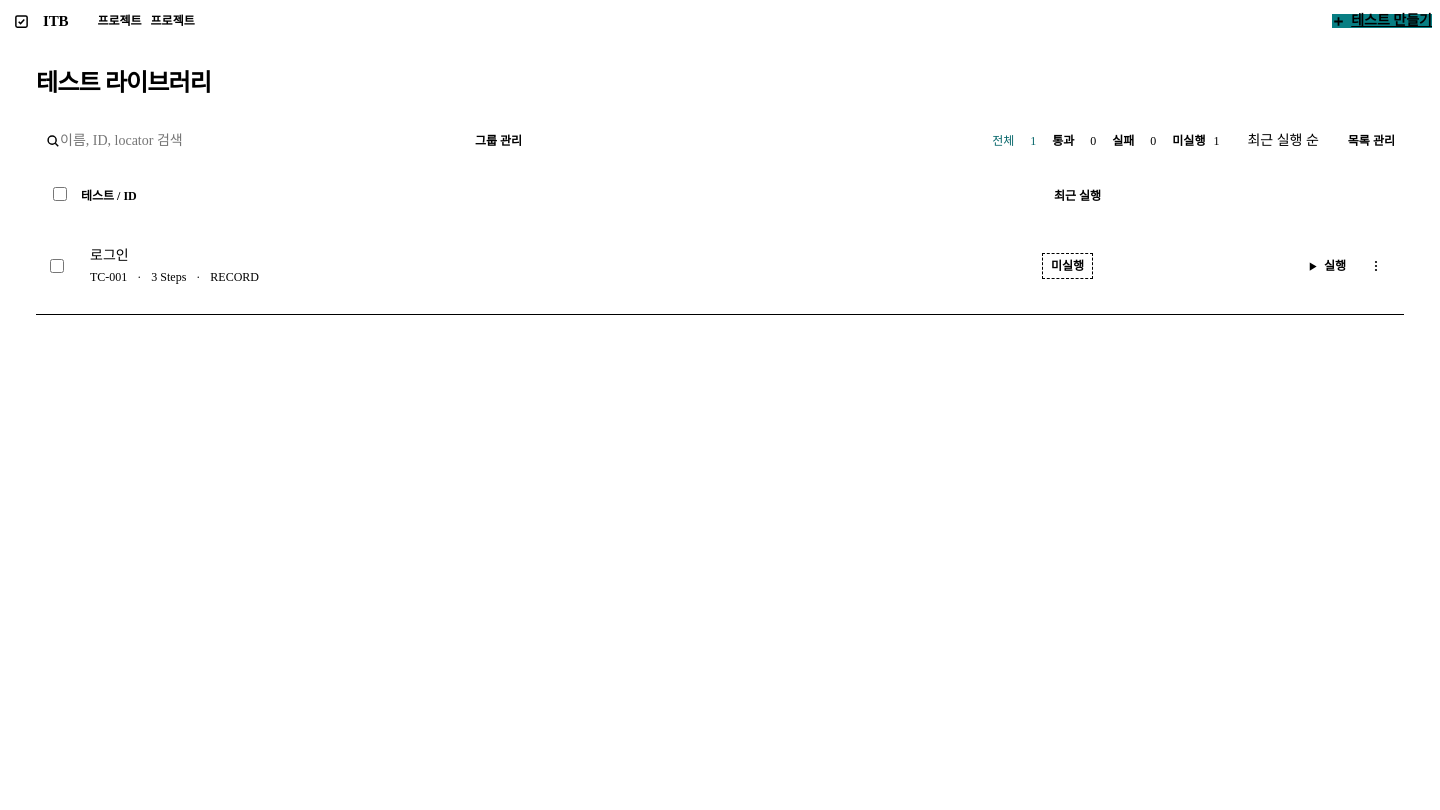
Test: 그룹이 없는 프로젝트 › 그래도 그룹을 만들 길은 있다
The image size is (1440, 810).
Check: the text "로그인" is shown, box [90,248,129,263]
Click the button "그룹 관리" at point(499, 141), box [466,134,531,148]
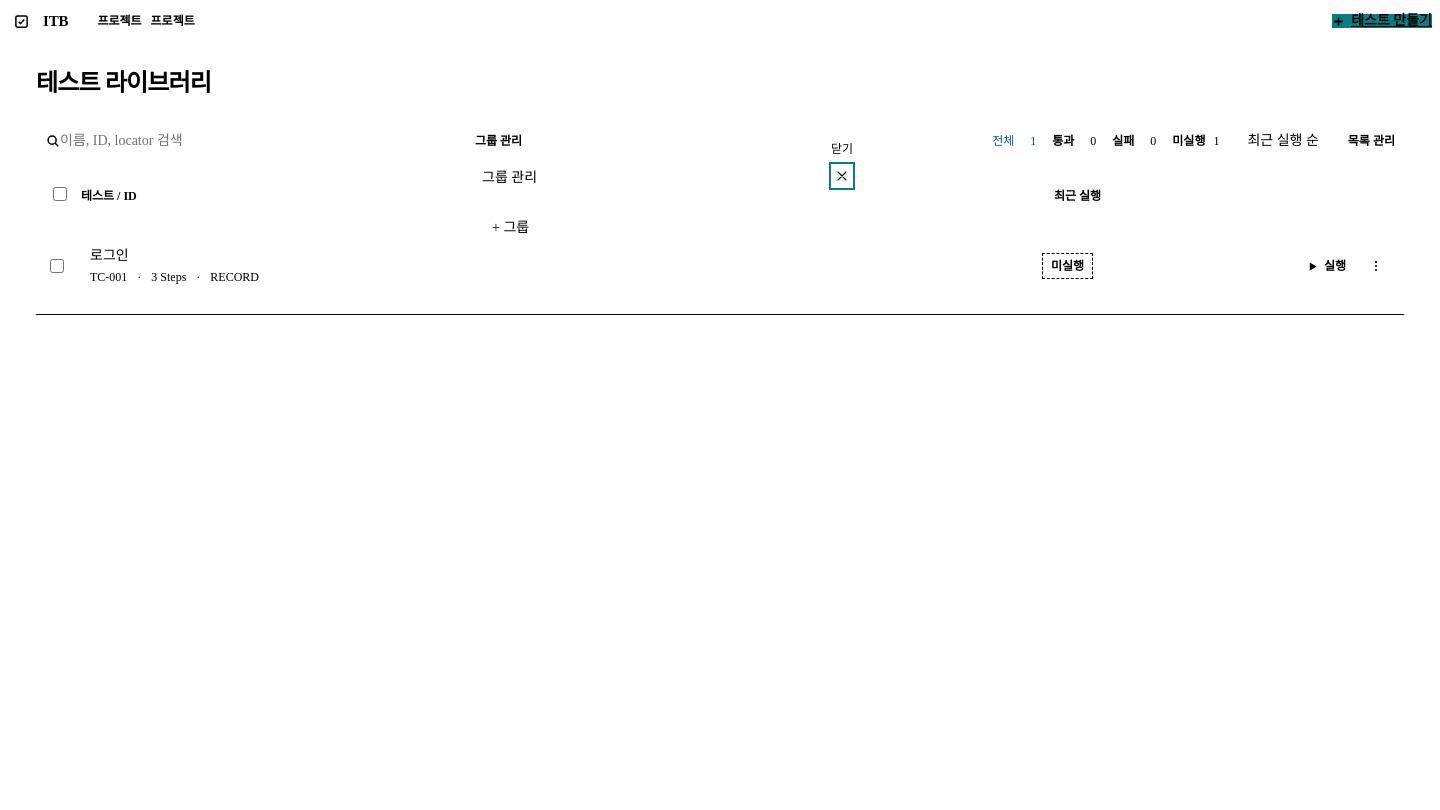
Check: the button "+ 그룹" is shown, box [482,214,539,242]
